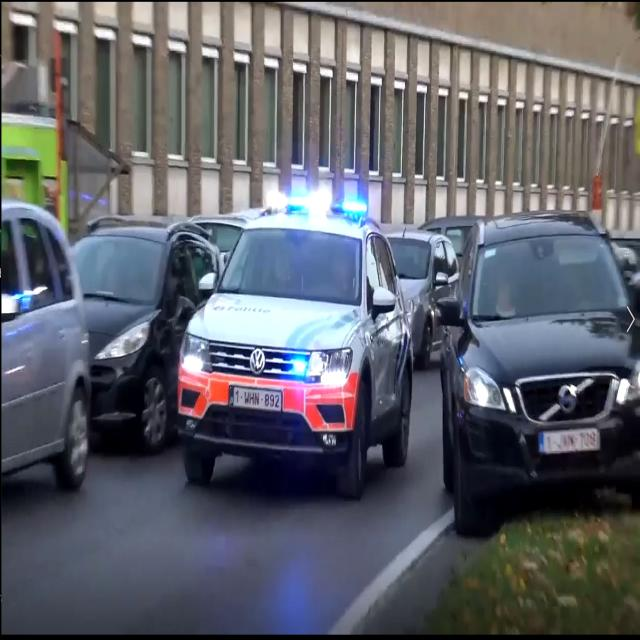emergency: (172, 194, 422, 492)
